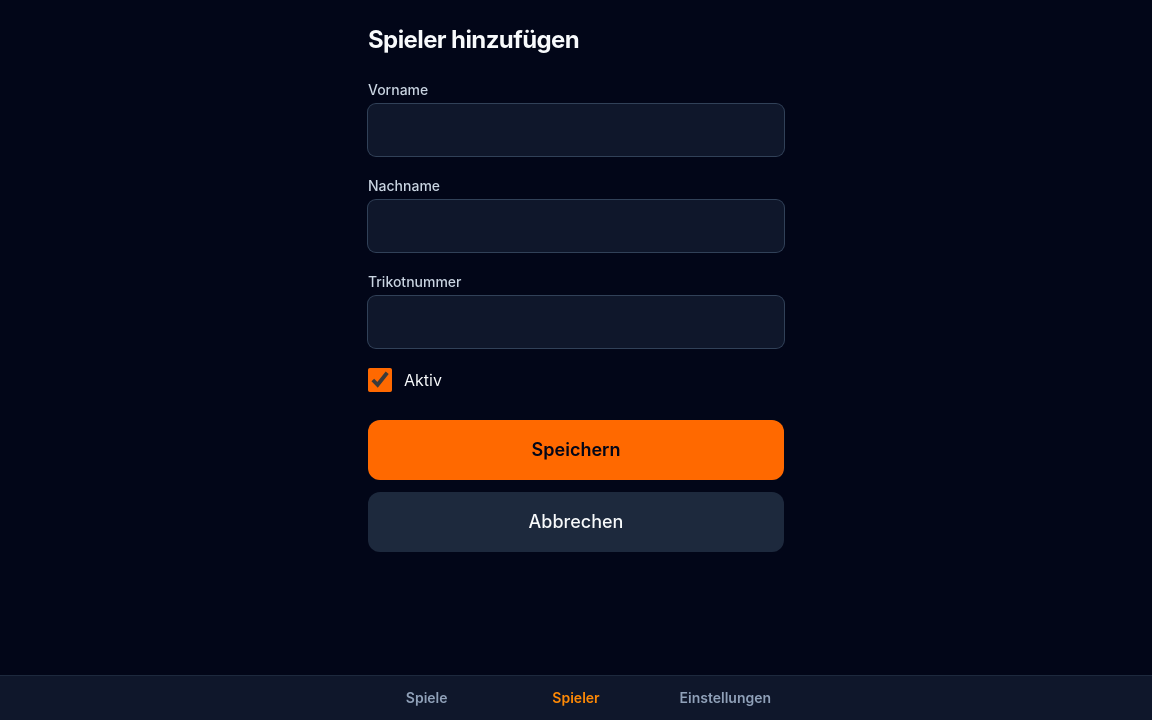
Test: PlayerFormPage – Spieler hinzufügen › zeigt eine Fehlermeldung bei ungültiger Trikotnummer
Type "Peter" into the field labelled "Vorname" at (576,130), box [368,104,784,156]
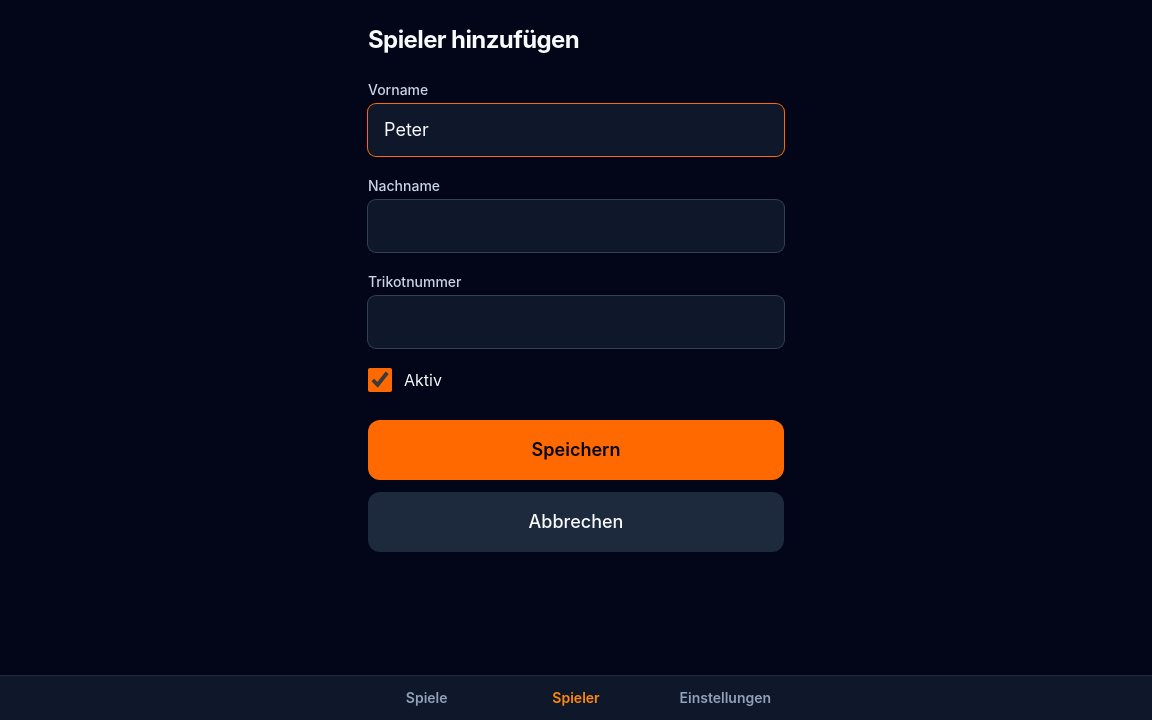
Type "Beispiel" into the field labelled "Nachname" at (576,226), box [368,200,784,252]
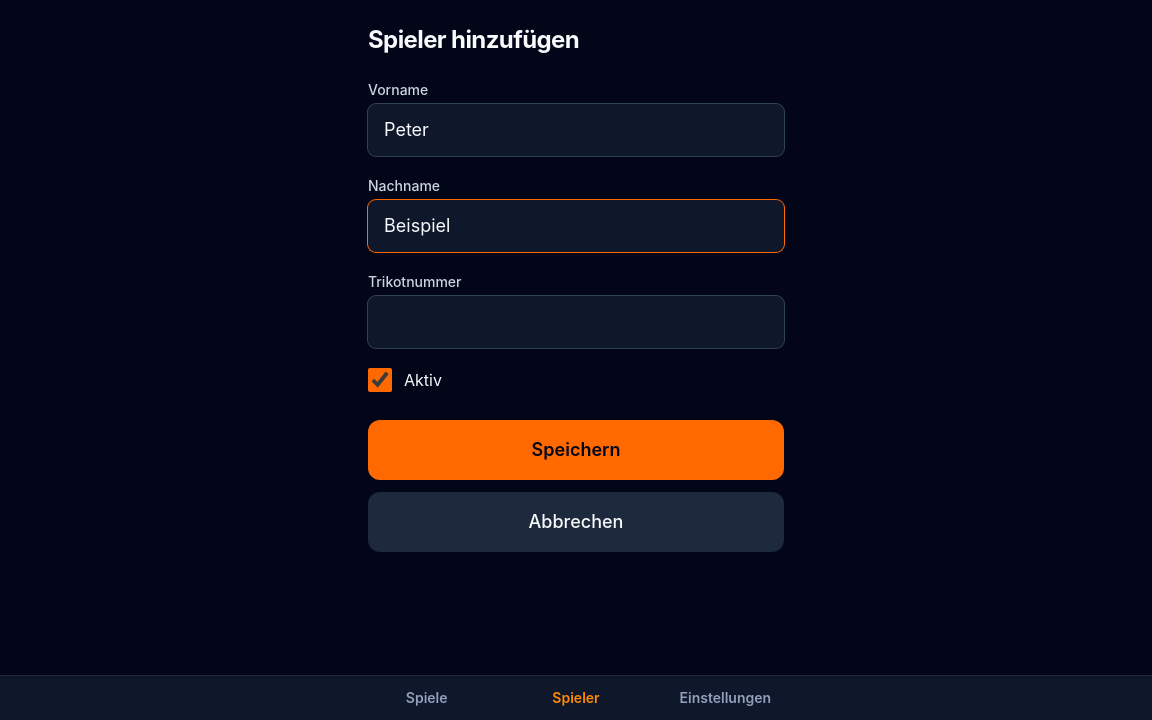
Type "150" into the number field labelled "Trikotnummer" at (576,322), box [368,296,784,348]
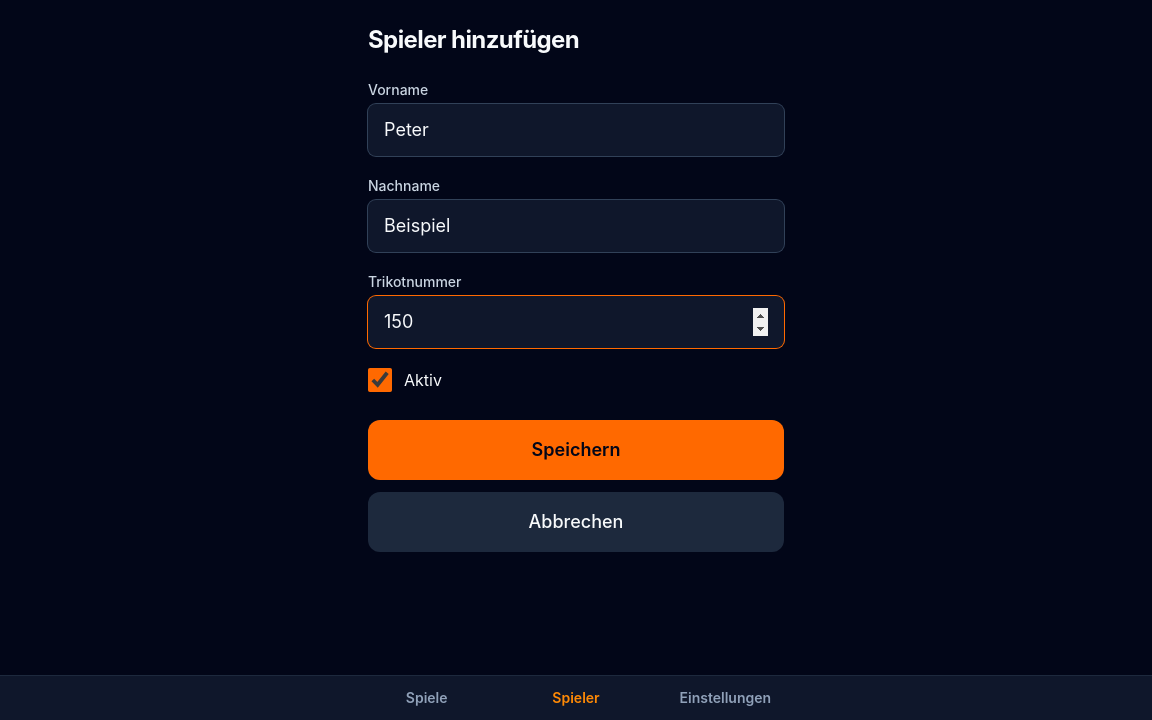
Click the button "Speichern" at (576,450), box [368,420,784,480]
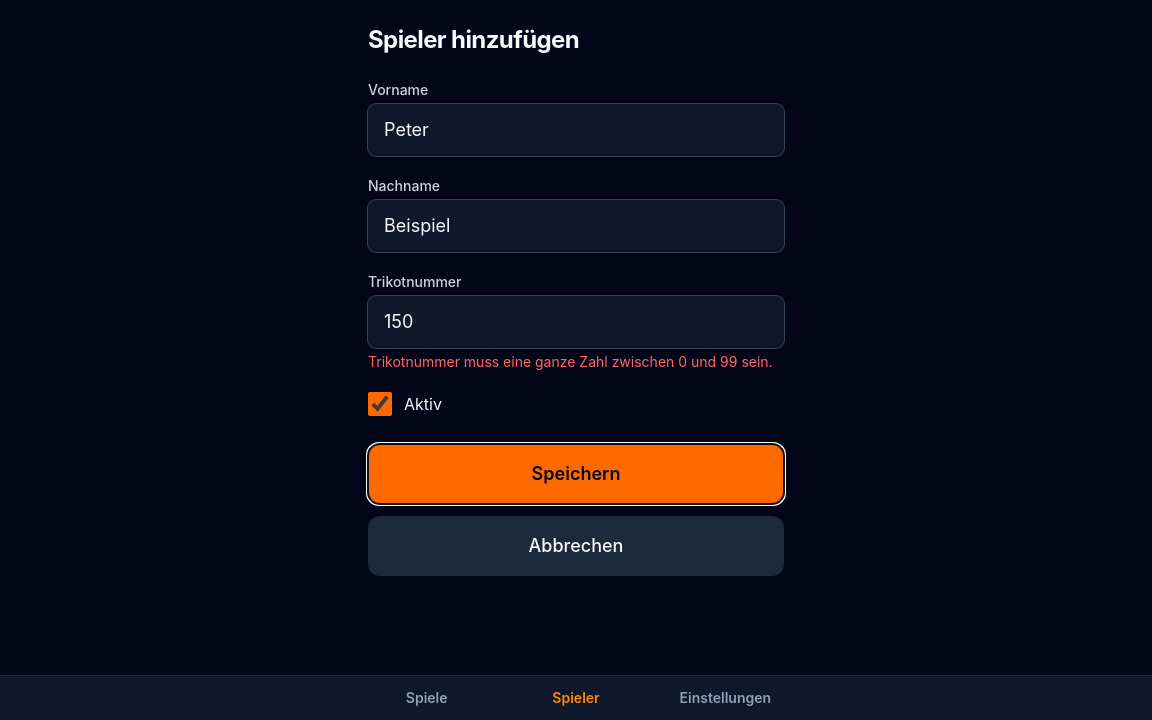
Now the text "Trikotnummer muss eine ganze Zahl zwischen 0 und 99 sein." is shown, box [368,352,784,372]
